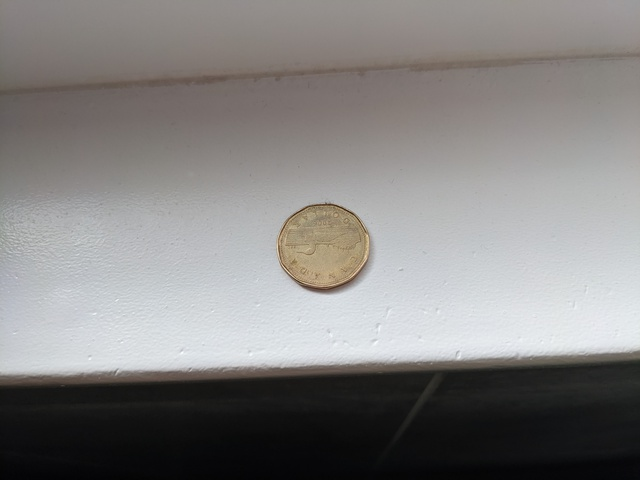loonie: (267, 198, 373, 293)
